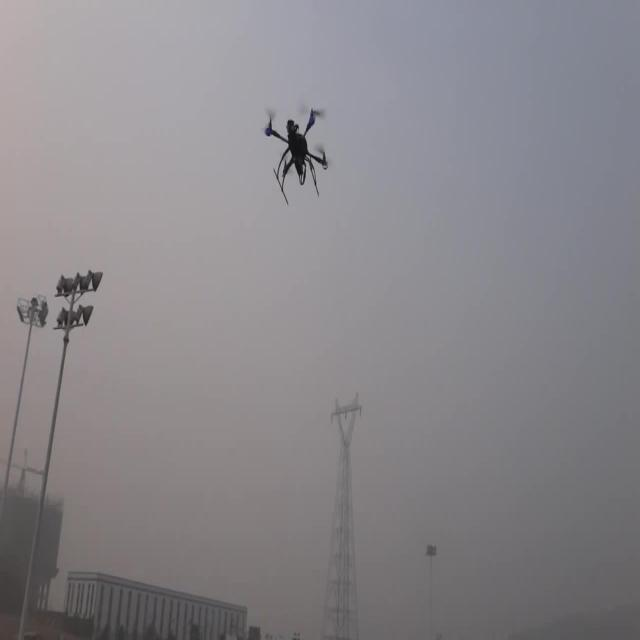drone: (264, 102, 332, 210)
